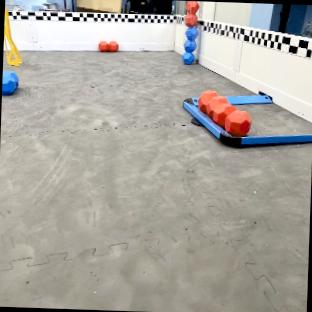V5_BLUE: (183, 28, 197, 63), (2, 71, 18, 95)
V5_RED: (199, 90, 251, 136), (185, 1, 198, 26)
